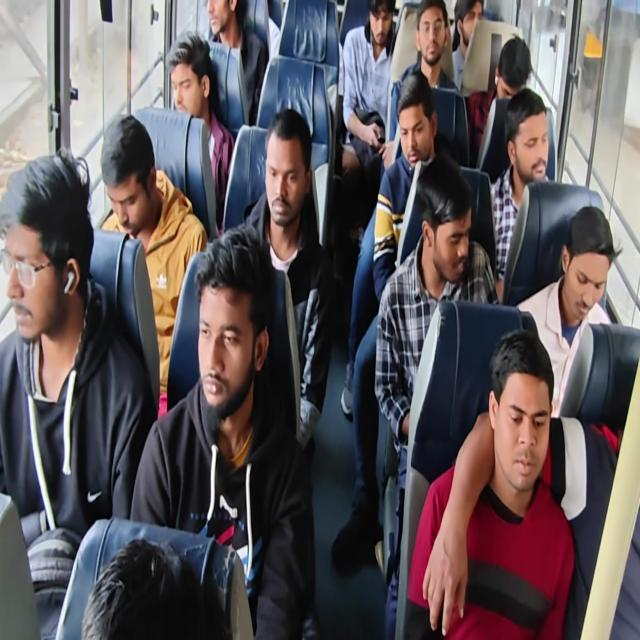person: (0, 1, 634, 638), (129, 223, 317, 638), (0, 148, 158, 638), (331, 70, 461, 572), (374, 154, 499, 636), (404, 328, 575, 638), (100, 114, 208, 418), (241, 107, 334, 449), (515, 204, 622, 420), (372, 70, 460, 301), (80, 536, 228, 639), (165, 30, 235, 232), (490, 88, 550, 303), (384, 0, 460, 168), (340, 0, 396, 174), (466, 36, 532, 168), (205, 0, 268, 125), (398, 0, 459, 95), (451, 0, 484, 93)
